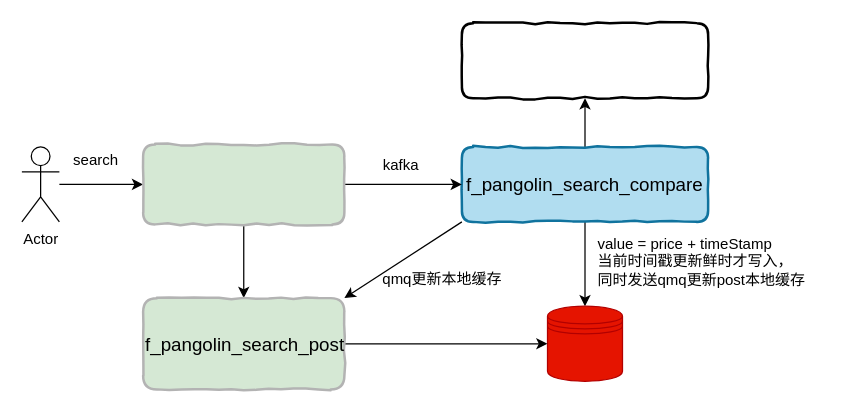
The diagram is 848 pixels wide and 411 high, and some of its shapes have lost their labels. The shapes that lost their labels are listed below. From the top down, each one's centre as x and y in pixels, then its label:
At point (584, 60): "ctrip".
At point (243, 183): "f_inter_twell".
